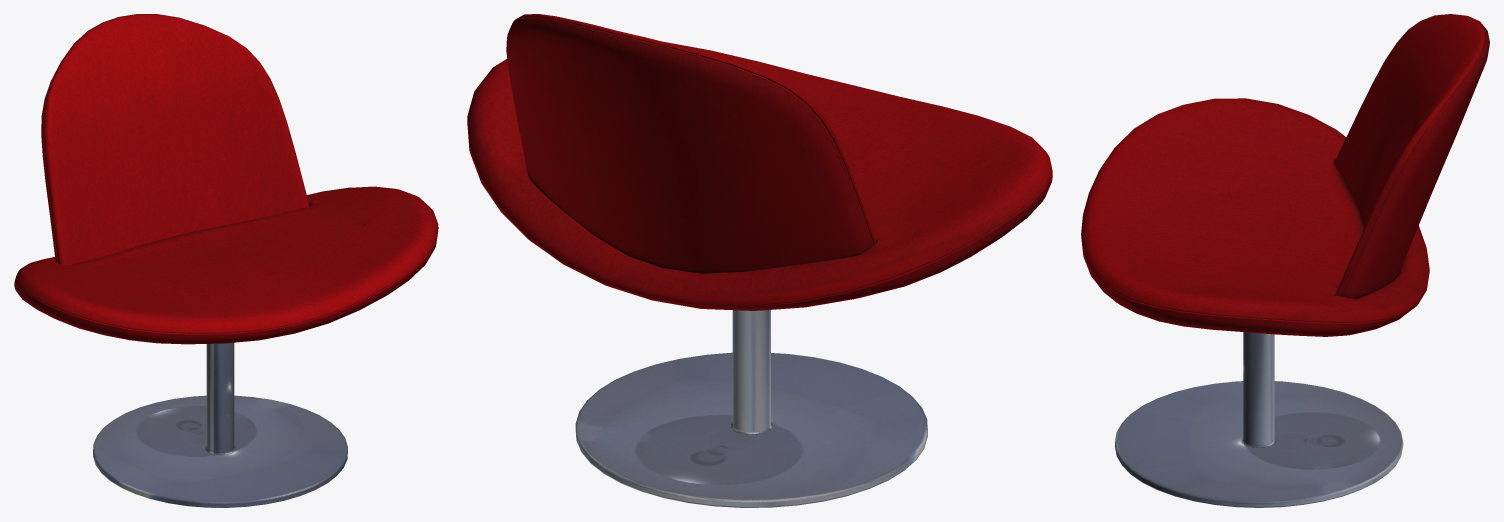
File: orlando_sand_colour_chrome_plated.glb
3 views of the same model, side by side, from view 1: azimuth 30°, elevation 25°; view 2: azimuth 150°, elevation 25°; view 3: azimuth 270°, elevation 25° (orthographic). The views are drawn at different scales.
Visible parts, largest first — view 1: orlando-red; view 2: orlando-red; view 3: orlando-red.
Part boxes in pixels (<box>): orlando-red: <box>14,14,438,507</box>; orlando-red: <box>467,14,1052,507</box>; orlando-red: <box>1081,14,1489,507</box>.
Size of the model in its own units: 0.7972 by 0.7095 by 0.6387.
1 material, 1 textured.
